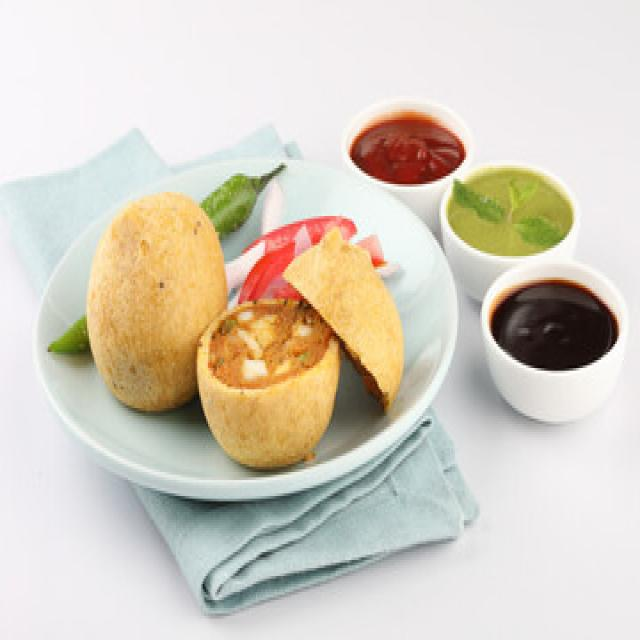BONDA: (85, 192, 400, 467)
GREEN CHUTNEY: (448, 171, 571, 253)
RED CHUTNEY: (492, 283, 615, 368)
SAUCE: (350, 117, 464, 184)
